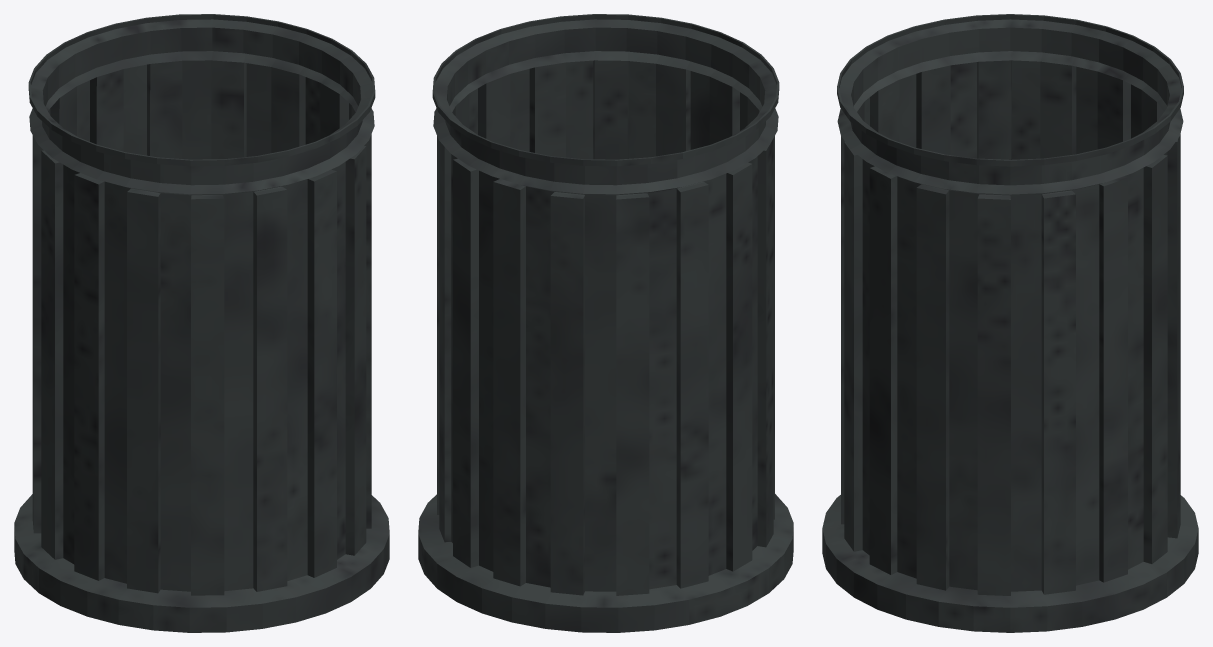
Rendered from trashBin.fbx.
3 renders of one model, left to right at view 1: azimuth 30°, elevation 25°; view 2: azimuth 150°, elevation 25°; view 3: azimuth 270°, elevation 25°, orthographic.
Visible parts, largest first — view 1: TrashBin; view 2: TrashBin; view 3: TrashBin.
Part boxes in pixels (x1,y1,x2,y2): TrashBin: (14, 14, 389, 632); TrashBin: (418, 14, 793, 632); TrashBin: (822, 14, 1198, 632).
Bounding box in the file's own units: 548 × 750 × 548.
Materials: 1 (1 with a texture image).
